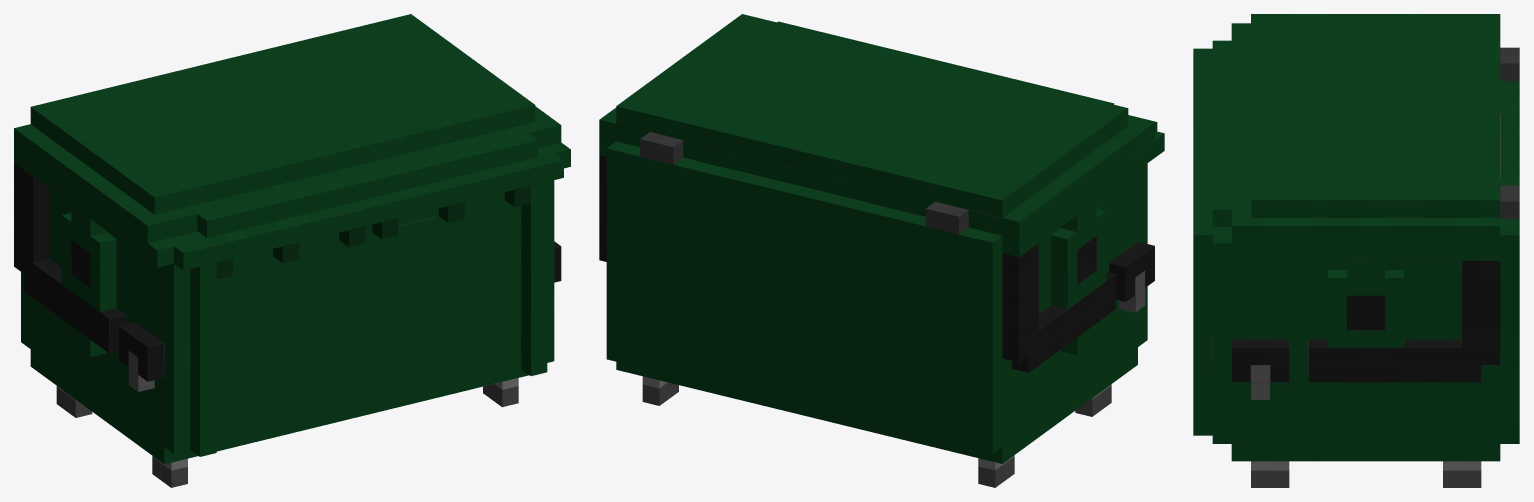
Rendered from Dumpster_Closed.fbx.
3 views of the same model, side by side, from view 1: azimuth 30°, elevation 25°; view 2: azimuth 150°, elevation 25°; view 3: azimuth 270°, elevation 25° (orthographic).
Visible parts, largest first — view 1: Dumpster_Closed; view 2: Dumpster_Closed; view 3: Dumpster_Closed.
Part boxes in pixels (box(x1,y1,x2,y2)): Dumpster_Closed: box(14, 14, 570, 487); Dumpster_Closed: box(599, 14, 1164, 487); Dumpster_Closed: box(1193, 14, 1519, 487).
Bounding box in the file's own units: 25 × 17 × 17.
